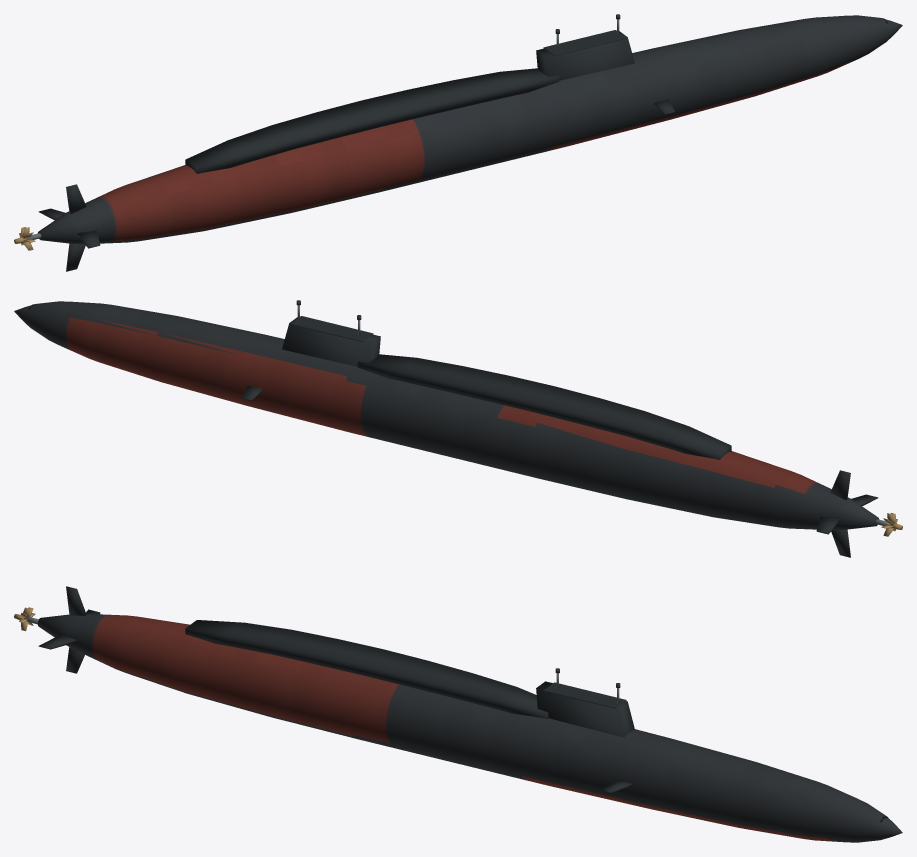
Rendered from UK_SSBN_Resolution_LOD2.fbx.
The picture shows the model from 3 angles, top to bottom: view 1: azimuth 30°, elevation 25°; view 2: azimuth 150°, elevation 25°; view 3: azimuth 330°, elevation 25°; orthographic projection.
Visible parts, largest first — view 1: UK_SSBN_Resolution_LOD2; view 2: UK_SSBN_Resolution_LOD2; view 3: UK_SSBN_Resolution_LOD2.
Boxes of the visible parts, bbox=[...] form: UK_SSBN_Resolution_LOD2: bbox=[14, 14, 902, 271]; UK_SSBN_Resolution_LOD2: bbox=[14, 300, 902, 557]; UK_SSBN_Resolution_LOD2: bbox=[14, 586, 902, 842].
Bounding box in the file's own units: 134 × 16.71 × 17.53.
Materials: 6 (1 with a texture image).
